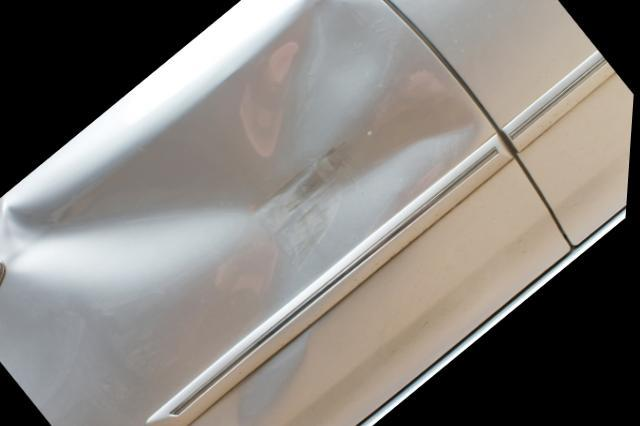dent: (0, 0, 480, 409), (226, 330, 313, 426)
